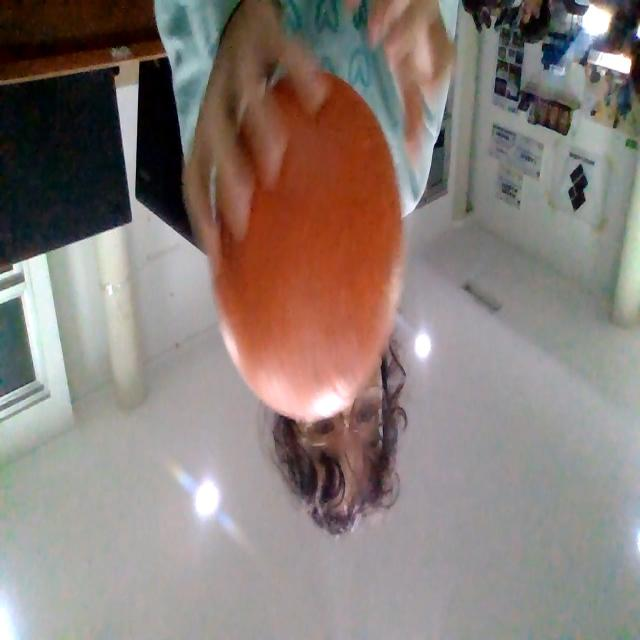ball: (216, 75, 403, 412)
